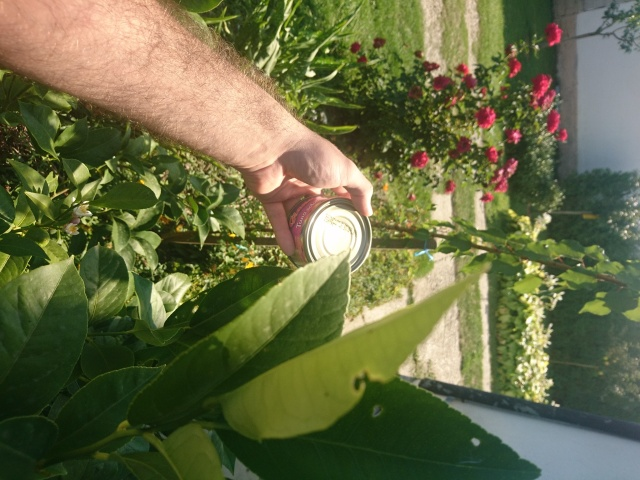Giana Tuna Salad Mexico 185g: (279, 193, 374, 277)
